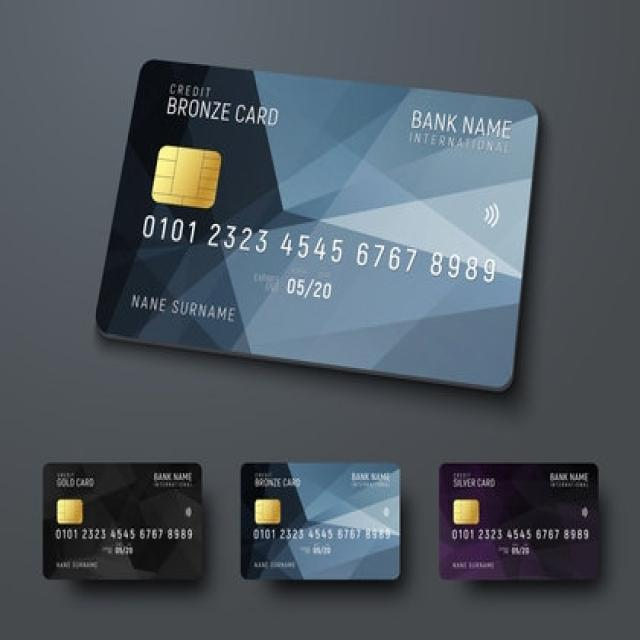payment_card: (94, 57, 541, 391), (42, 456, 206, 584), (437, 461, 601, 582), (240, 463, 403, 581)
